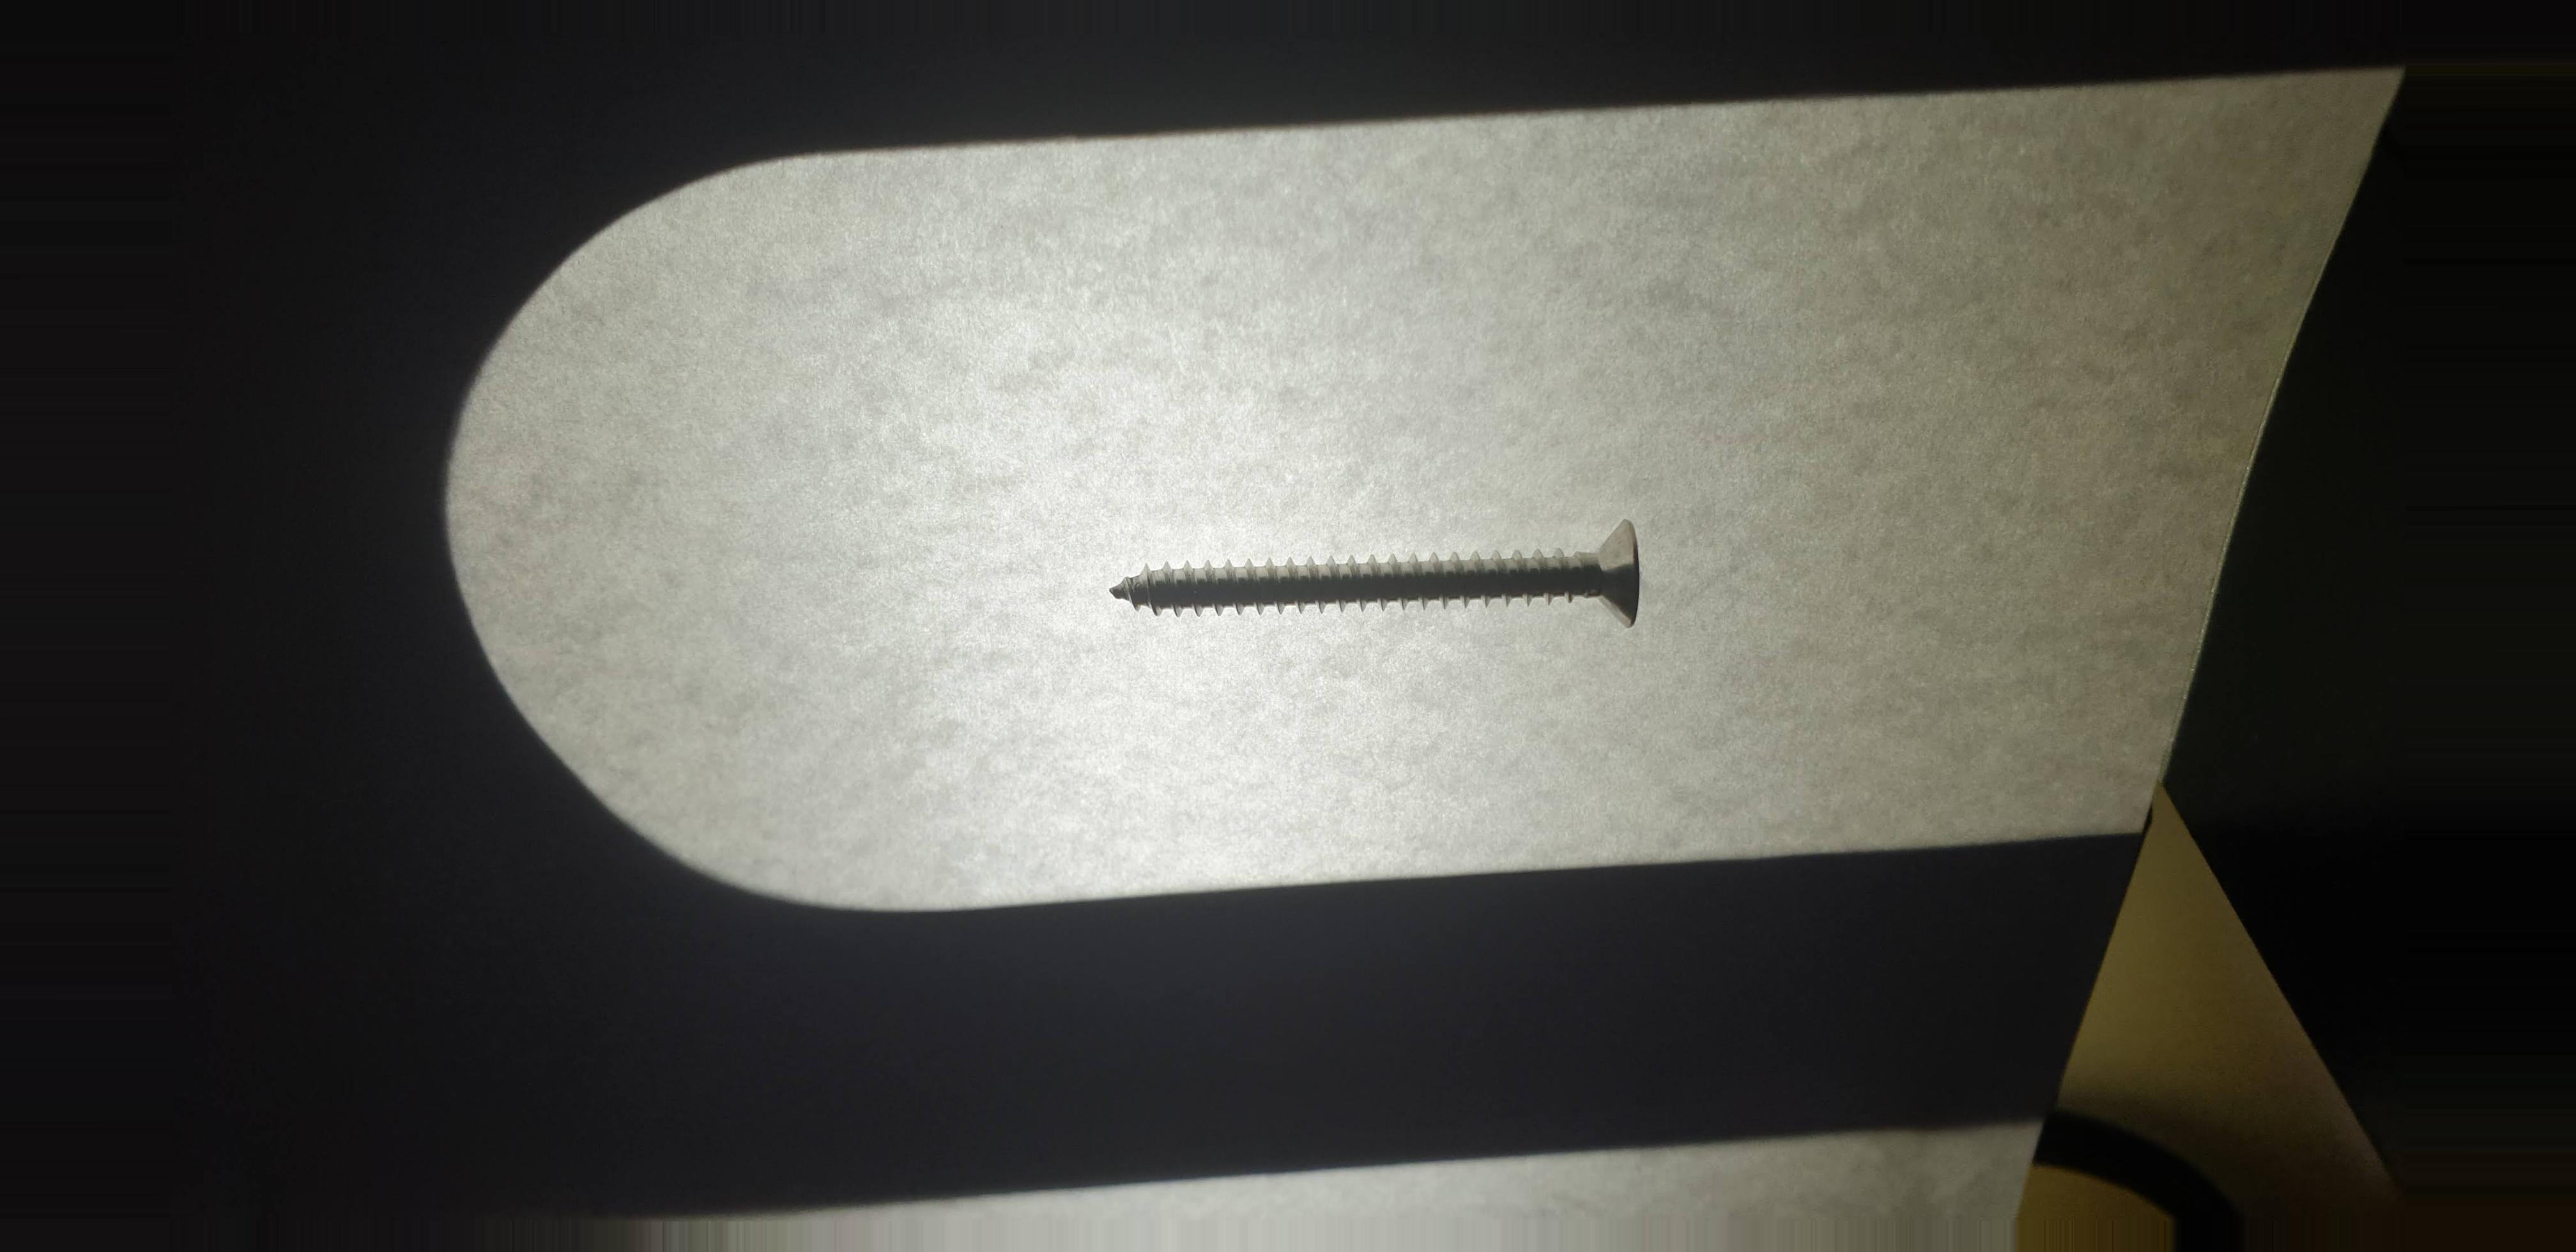S001: (1088, 516, 1687, 652)
